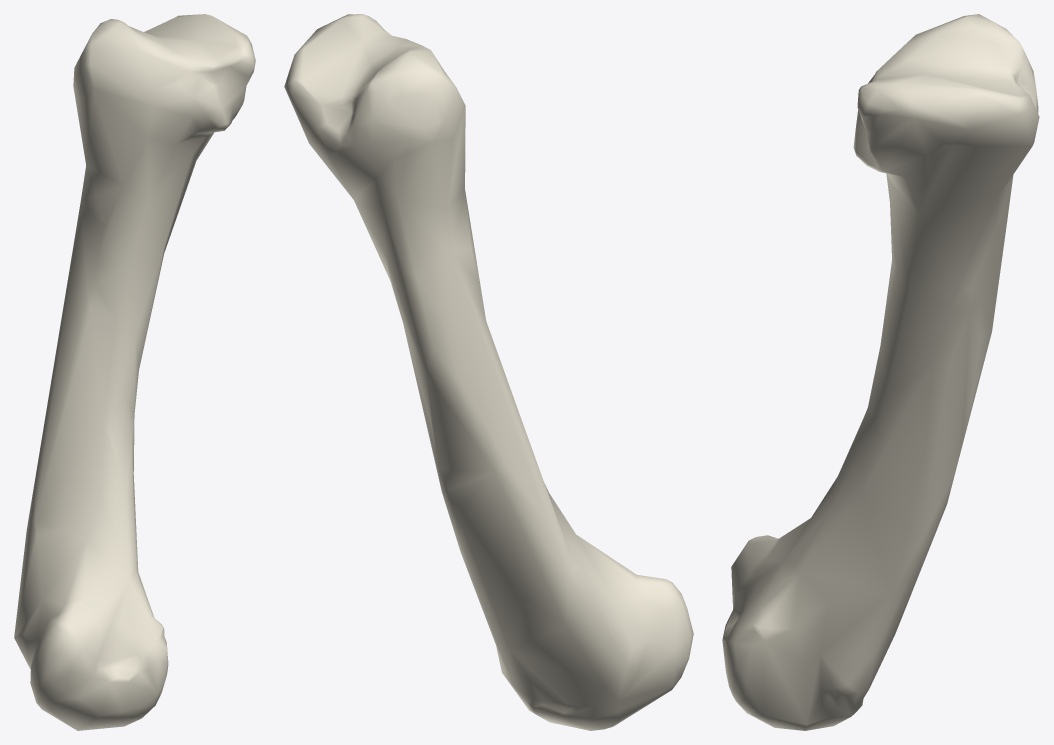
3 renders of one model, left to right at view 1: azimuth 30°, elevation 25°; view 2: azimuth 150°, elevation 25°; view 3: azimuth 270°, elevation 25°, orthographic. The views are drawn at different scales.
Parts seen in each view (by area): view 1: ZA_2c738171c8d19fbd; view 2: ZA_2c738171c8d19fbd; view 3: ZA_2c738171c8d19fbd.
Boxes of the visible parts, x1=… form: ZA_2c738171c8d19fbd: x1=14, y1=14, x2=255, y2=730; ZA_2c738171c8d19fbd: x1=284, y1=14, x2=693, y2=730; ZA_2c738171c8d19fbd: x1=722, y1=14, x2=1039, y2=730.
Size of the model in its own units: 0.0321 by 0.0705 by 0.0267.
